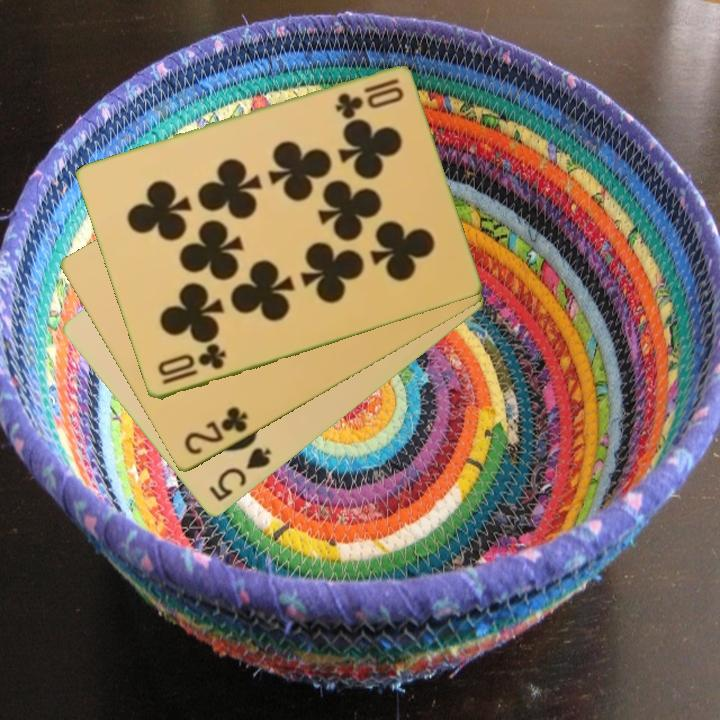10c: (154, 341, 229, 388), (331, 75, 407, 119)
2c: (180, 403, 251, 459)
5s: (205, 444, 275, 506)
